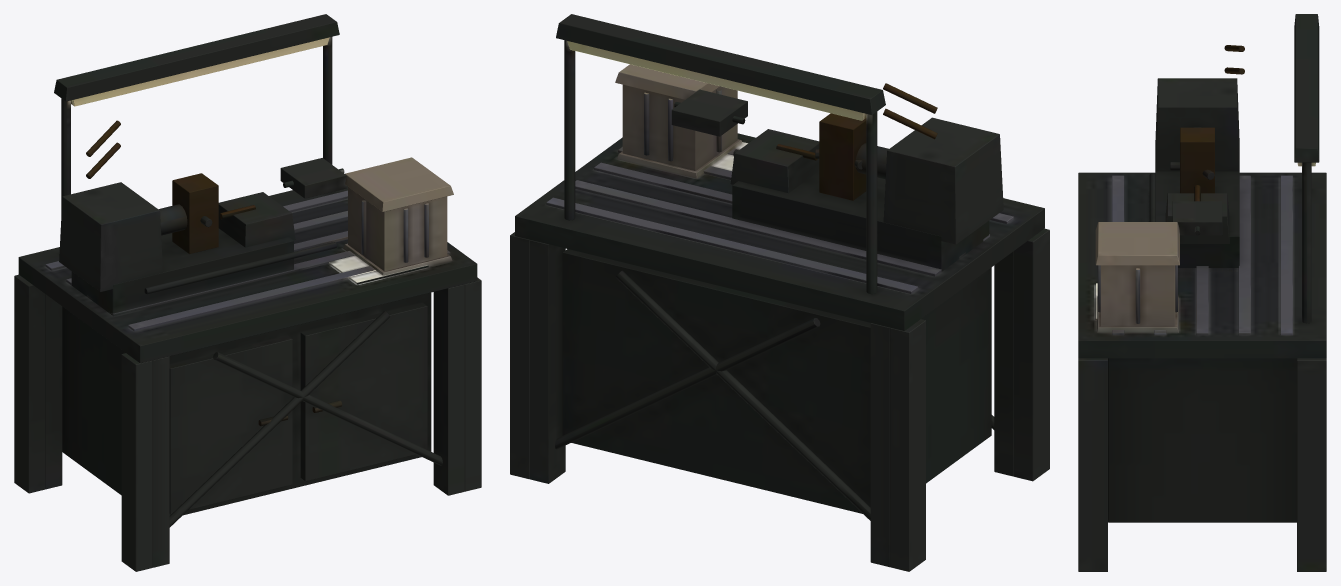
Rendered from DD_workbench3_L3.glb.
The picture shows the model from 3 angles, left to right: view 1: azimuth 30°, elevation 25°; view 2: azimuth 150°, elevation 25°; view 3: azimuth 270°, elevation 25°; orthographic projection. The views are drawn at different scales.
Parts seen in each view (by area): view 1: DD_workbench3_L3; view 2: DD_workbench3_L3; view 3: DD_workbench3_L3.
Part boxes in pixels (box(x1,y1,x2,y2)): DD_workbench3_L3: box(14, 14, 481, 571); DD_workbench3_L3: box(510, 14, 1049, 571); DD_workbench3_L3: box(1078, 14, 1326, 571).
Bounding box in the file's own units: 1.64 × 1.8 × 1.
Materials: 1 (1 with a texture image).
